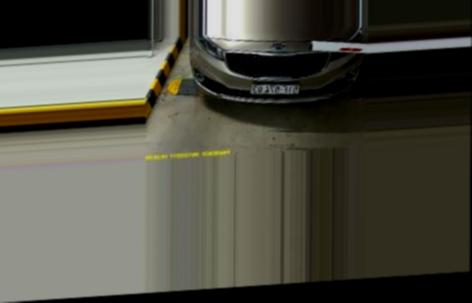License_Plate: (247, 81, 303, 99)
